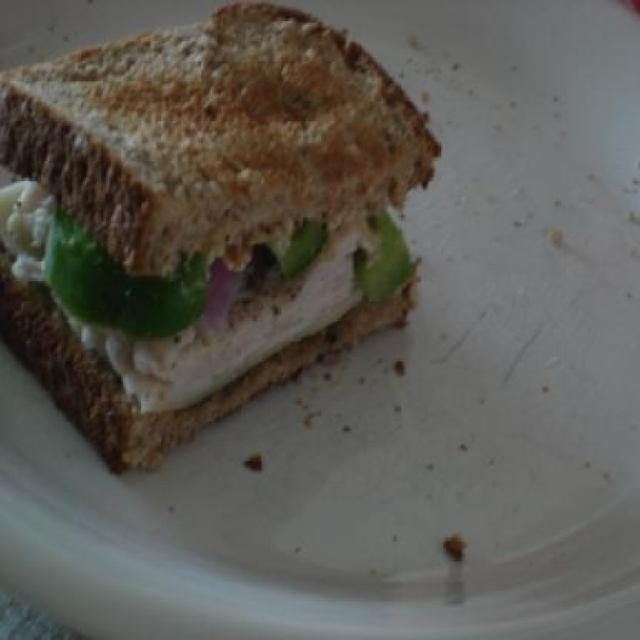Sandwich: (0, 0, 442, 483)
